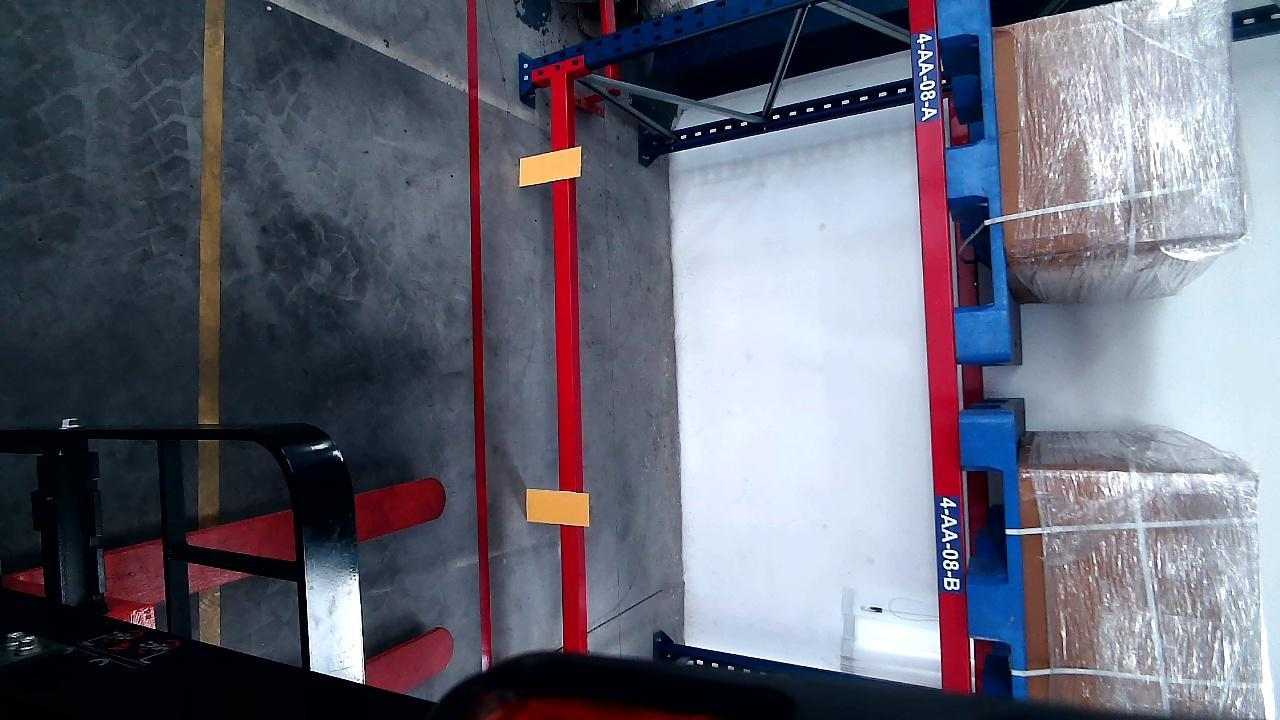red_line: (464, 2, 495, 669)
yellow_line: (196, 0, 225, 425)
